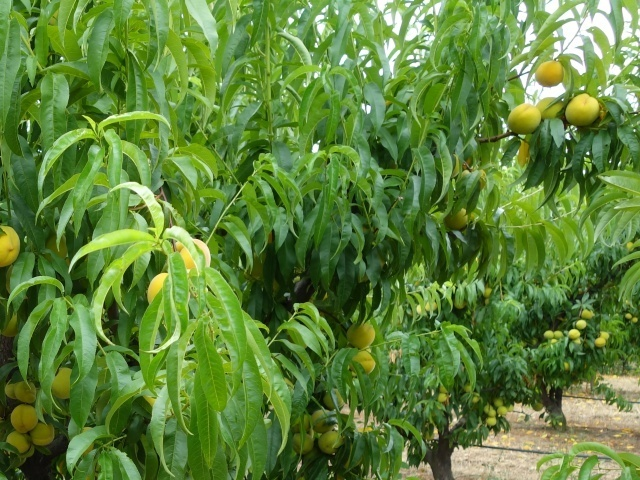peach: (167, 232, 214, 277), (562, 89, 602, 127), (147, 266, 180, 311), (506, 100, 543, 140), (530, 56, 568, 91), (43, 364, 80, 399), (344, 319, 380, 354), (534, 94, 568, 127), (347, 349, 383, 378), (1, 222, 22, 271), (8, 402, 41, 433), (287, 430, 319, 460), (1, 431, 34, 460), (28, 417, 57, 448), (317, 427, 345, 459), (444, 206, 473, 233), (308, 406, 336, 432), (11, 380, 40, 405)
